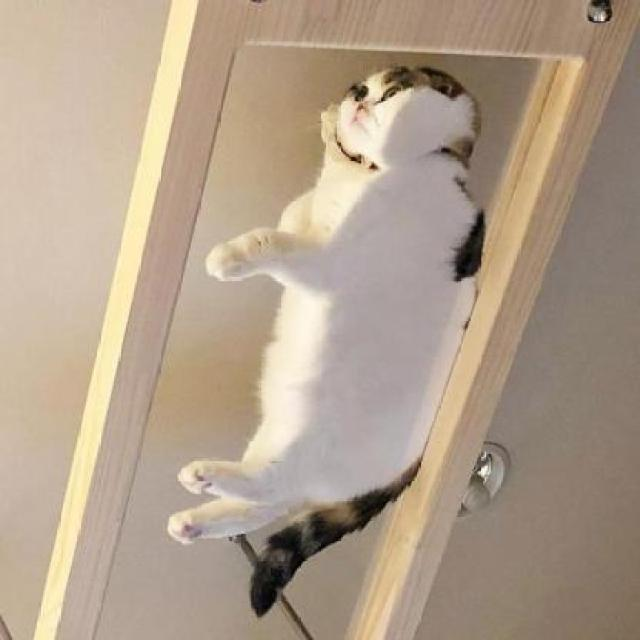cat: (208, 56, 484, 489)
